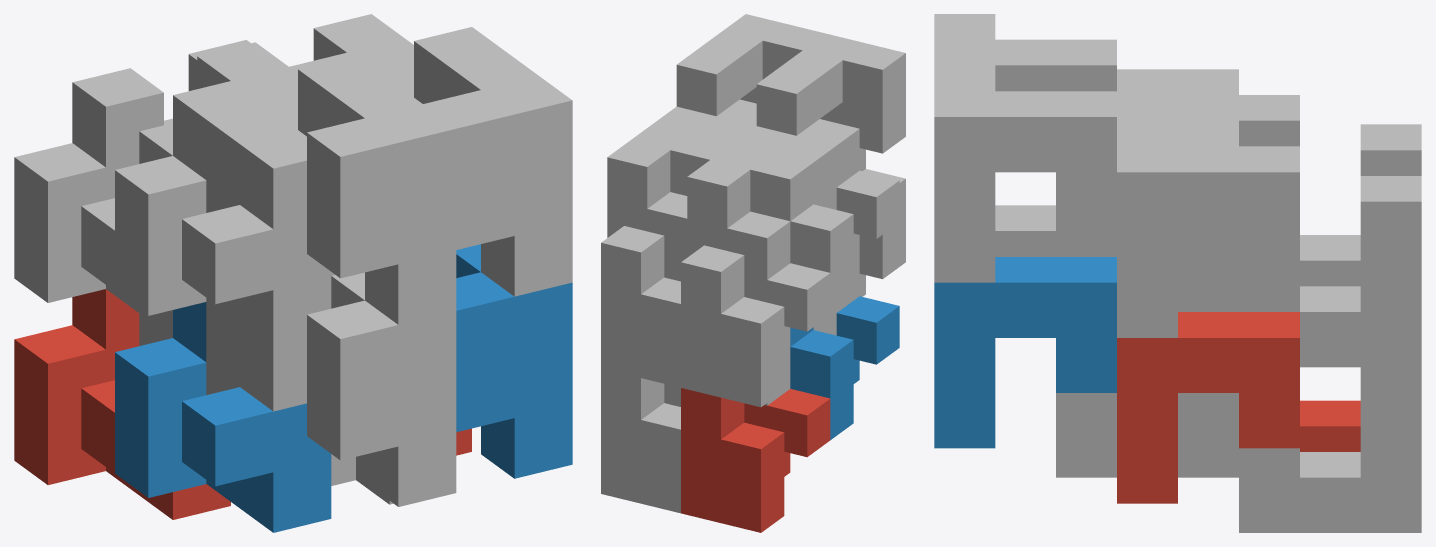
The model's file is tiling.obj.
3 renders of one model, left to right at view 1: azimuth 30°, elevation 25°; view 2: azimuth 150°, elevation 25°; view 3: azimuth 270°, elevation 25°, orthographic. The views are drawn at different scales.
Visible parts, largest first — view 1: copy_2_domain_4, copy_2_domain_2, copy_1_domain_4, copy_2_domain_8, copy_1_domain_2, copy_1_domain_3, copy_2_domain_6, copy_1_domain_1, copy_2_domain_3, copy_2_domain_7, copy_2_domain_1, copy_1_domain_7; view 2: copy_1_domain_3, copy_1_domain_1, copy_2_domain_4, copy_2_domain_3, copy_1_domain_4, copy_1_domain_7, copy_1_domain_5, copy_2_domain_7, copy_2_domain_8, copy_1_domain_2, copy_2_domain_2, copy_1_domain_8 (+1 smaller); view 3: copy_2_domain_8, copy_2_domain_7, copy_2_domain_6, copy_2_domain_5, copy_1_domain_5, copy_1_domain_7, copy_1_domain_6, copy_2_domain_4, copy_1_domain_8, copy_2_domain_3, copy_1_domain_3, copy_1_domain_1 (+2 smaller).
Boxes of the visible parts, left/top/right/bottom form: copy_2_domain_4: left=240, top=55, right=456, bottom=324; copy_2_domain_2: left=240, top=272, right=456, bottom=506; copy_1_domain_4: left=115, top=81, right=331, bottom=350; copy_2_domain_8: left=414, top=27, right=572, bottom=296; copy_1_domain_2: left=115, top=302, right=331, bottom=532; copy_1_domain_3: left=14, top=68, right=172, bottom=337; copy_2_domain_6: left=456, top=244, right=572, bottom=478; copy_1_domain_1: left=14, top=289, right=230, bottom=519; copy_2_domain_3: left=139, top=42, right=297, bottom=212; copy_2_domain_7: left=313, top=14, right=413, bottom=97; copy_2_domain_1: left=139, top=302, right=355, bottom=485; copy_1_domain_7: left=164, top=40, right=250, bottom=125; copy_1_domain_3: left=681, top=245, right=830, bottom=407; copy_1_domain_1: left=681, top=388, right=830, bottom=532; copy_2_domain_4: left=756, top=33, right=905, bottom=186; copy_2_domain_3: left=687, top=126, right=836, bottom=279; copy_1_domain_4: left=750, top=153, right=899, bottom=314; copy_1_domain_7: left=601, top=226, right=683, bottom=387; copy_1_domain_5: left=601, top=368, right=680, bottom=513; copy_2_domain_7: left=607, top=106, right=756, bottom=259; copy_2_domain_8: left=676, top=14, right=825, bottom=125; copy_1_domain_2: left=790, top=296, right=899, bottom=439; copy_2_domain_2: left=836, top=169, right=905, bottom=312; copy_1_domain_8: left=670, top=133, right=732, bottom=195; copy_2_domain_8: left=934, top=65, right=1116, bottom=282; copy_2_domain_7: left=1117, top=120, right=1299, bottom=337; copy_2_domain_6: left=934, top=257, right=1116, bottom=448; copy_2_domain_5: left=1117, top=312, right=1299, bottom=503; copy_1_domain_5: left=1239, top=367, right=1421, bottom=532; copy_1_domain_7: left=1239, top=176, right=1421, bottom=367; copy_1_domain_6: left=1056, top=393, right=1238, bottom=477; copy_2_domain_4: left=934, top=14, right=1116, bottom=91; copy_1_domain_8: left=1056, top=120, right=1238, bottom=311; copy_2_domain_3: left=1117, top=69, right=1299, bottom=146; copy_1_domain_3: left=1300, top=124, right=1421, bottom=286; copy_1_domain_1: left=1300, top=400, right=1360, bottom=451.
Bounding box in the file's own units: 5 × 8 × 8.
